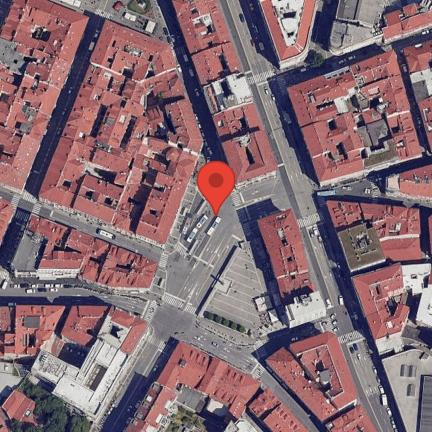area_open: (131, 175, 292, 374), (48, 0, 170, 43)
built: (38, 20, 204, 249), (327, 200, 432, 432), (173, 0, 278, 189), (288, 50, 424, 188), (0, 306, 152, 426), (125, 340, 314, 432), (0, 0, 89, 193), (10, 212, 159, 293), (264, 331, 377, 432), (258, 208, 327, 327), (328, 0, 432, 57), (259, 0, 317, 70), (403, 41, 432, 153), (386, 165, 432, 202), (0, 391, 38, 432), (0, 199, 12, 251)
vegetation_high: (7, 380, 89, 432)
vegetation_low: (166, 404, 227, 432)
